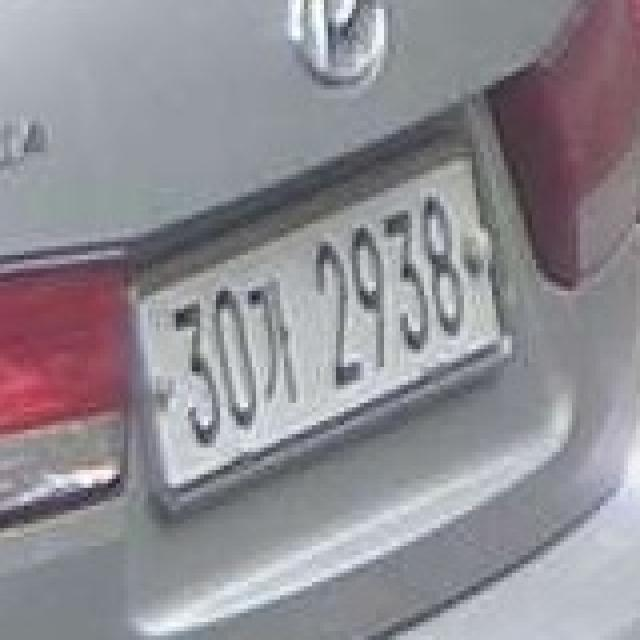0: (208, 282, 256, 425)
2: (312, 242, 364, 385)
3: (168, 300, 224, 447), (380, 210, 432, 349)
8: (420, 197, 464, 336)
9: (348, 224, 392, 371)
ga: (244, 278, 300, 408)
license_plate: (136, 157, 512, 479)
